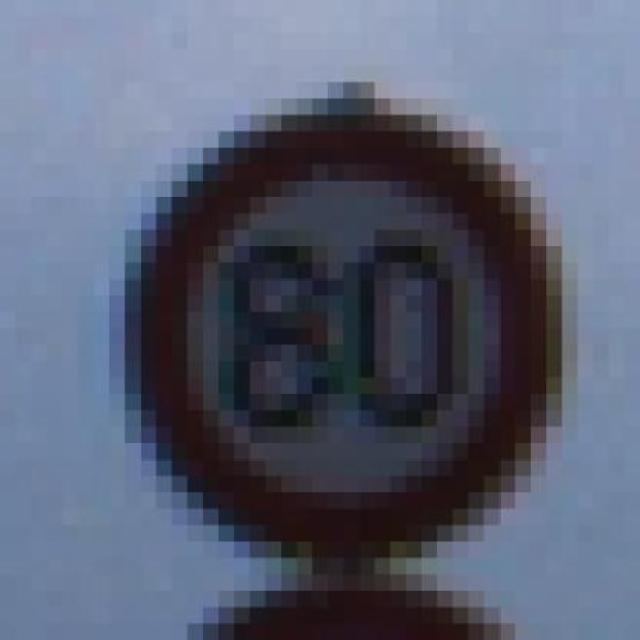forb_speed_over_80: (143, 121, 551, 553)
